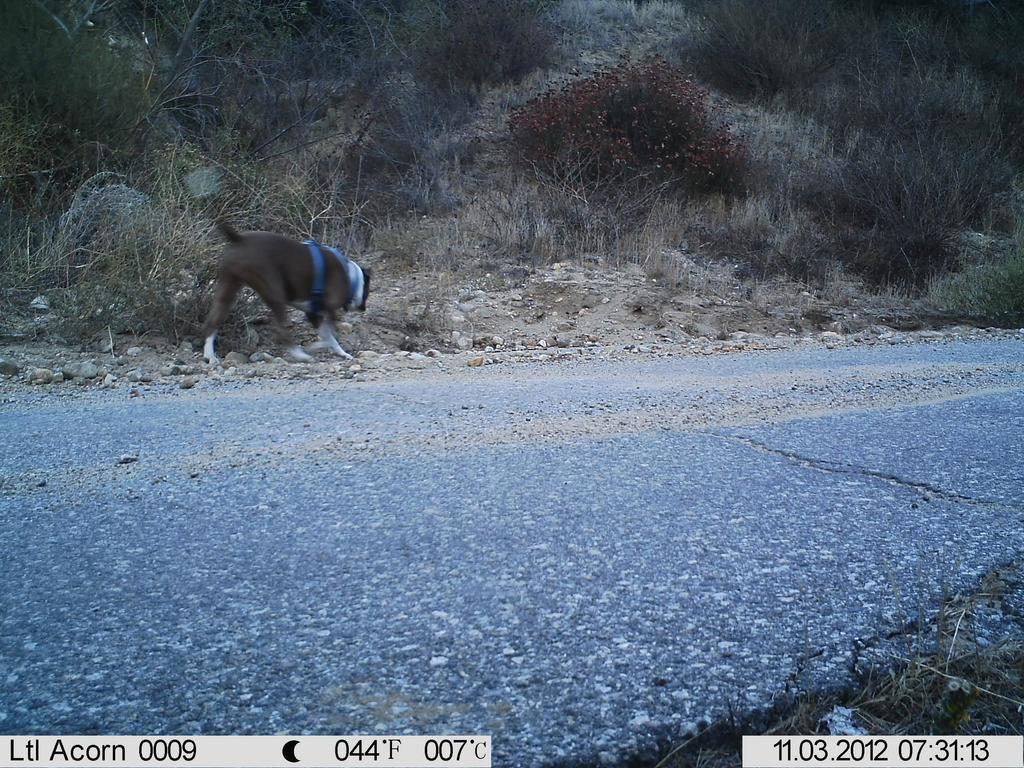dog: (178, 195, 395, 372)
